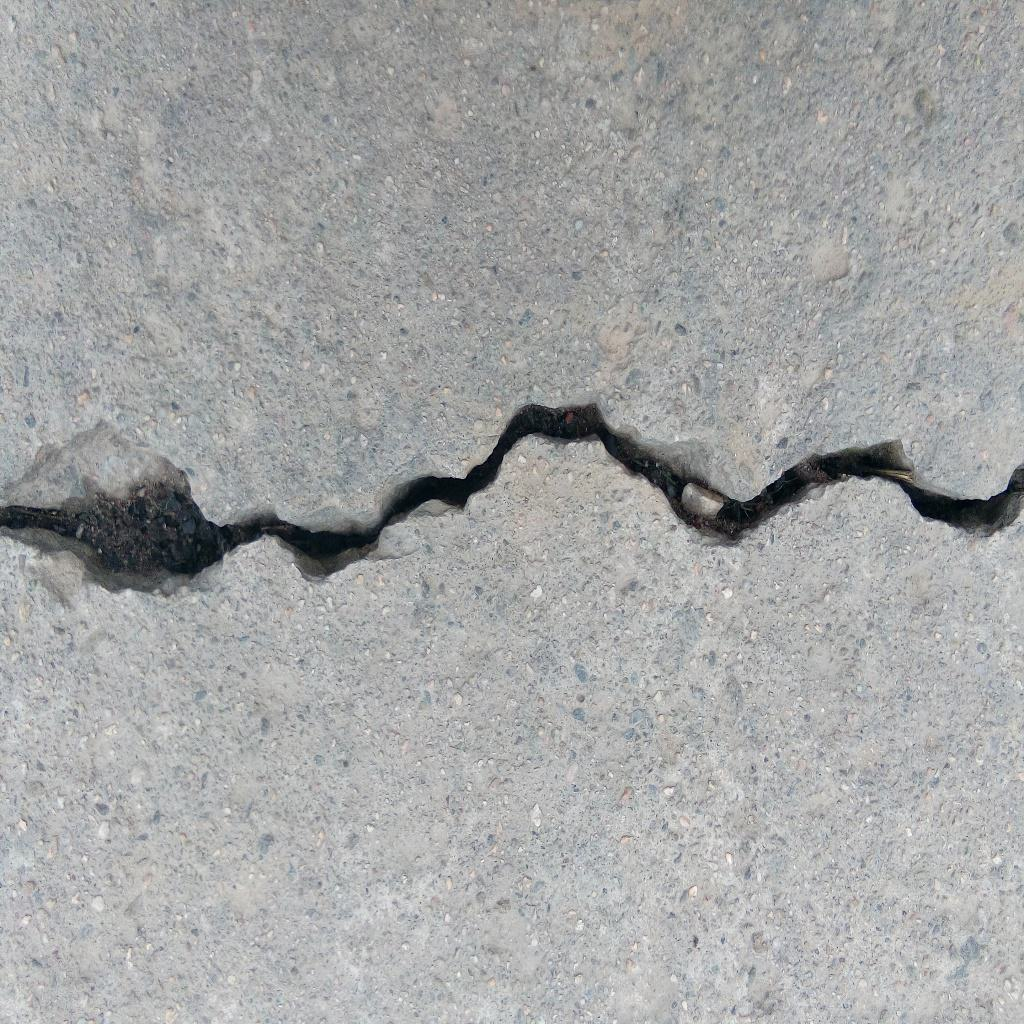Crack: (1, 402, 1024, 596)
